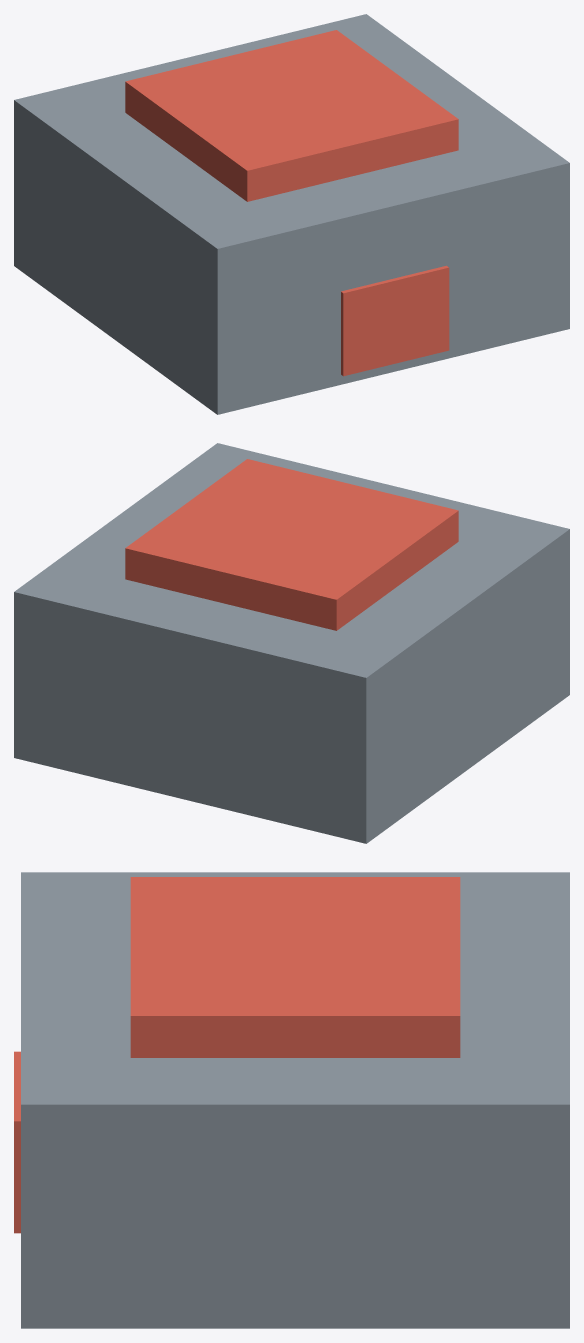
File: SM_Soviet_SU_Airfield_Blockout.fbx
3 views of the same model, one above another, from view 1: azimuth 30°, elevation 25°; view 2: azimuth 150°, elevation 25°; view 3: azimuth 270°, elevation 25° (orthographic). The views are drawn at different scales.
Visible parts, largest first — view 1: MainBuilding, RoofStructure, EntranceGate; view 2: MainBuilding, RoofStructure; view 3: MainBuilding, RoofStructure, EntranceGate.
Boxes of the visible parts, x1,y1,x2,y2 form: MainBuilding: (14, 14, 569, 414); RoofStructure: (125, 30, 458, 201); EntranceGate: (341, 265, 449, 376); MainBuilding: (14, 443, 569, 843); RoofStructure: (125, 459, 458, 630); MainBuilding: (21, 872, 569, 1328); RoofStructure: (130, 877, 460, 1057); EntranceGate: (14, 1051, 20, 1233).
Bounding box in the file's own units: 800 × 428 × 810.
